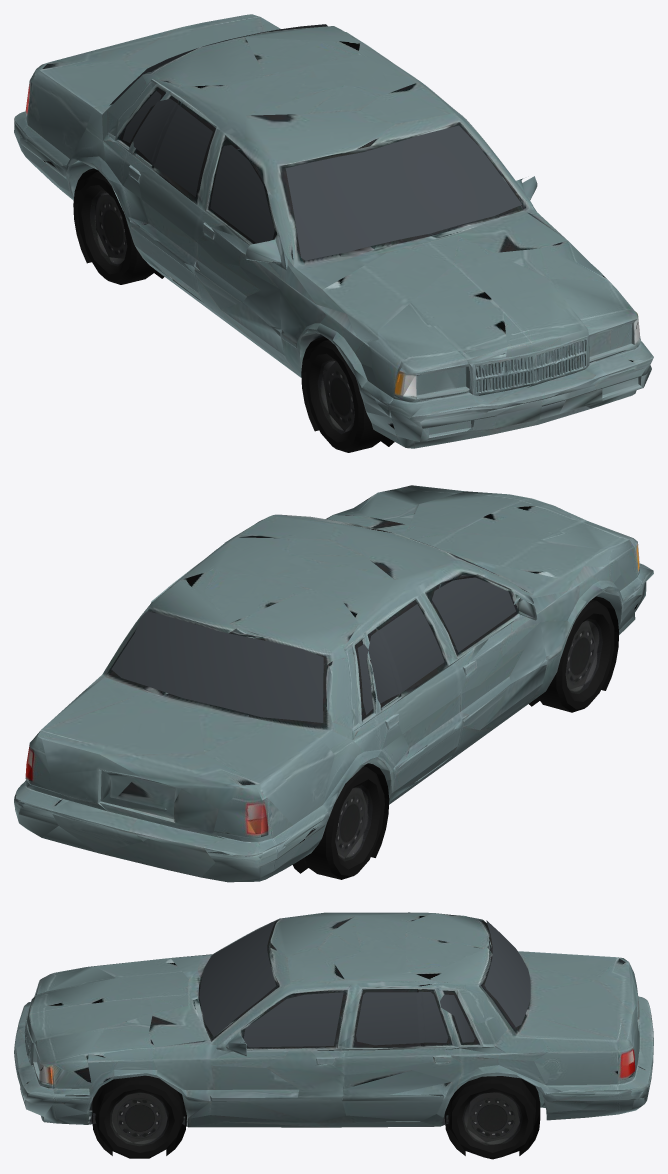
File: sedan.glb
The picture shows the model from 3 angles, top to bottom: view 1: azimuth 30°, elevation 25°; view 2: azimuth 150°, elevation 25°; view 3: azimuth 270°, elevation 25°; orthographic projection. The views are drawn at different scales.
Visible parts, largest first — view 1: body, glass, wheel_fr, wheel_rr; view 2: body, glass, wheel_rr, wheel_fr; view 3: body, glass, wheel_fl, wheel_rl.
Boxes of the visible parts, <box> form: body: <box>14,14,653,448</box>; glass: <box>109,24,521,260</box>; wheel_fr: <box>306,340,383,452</box>; wheel_rr: <box>77,171,156,284</box>; body: <box>14,485,653,882</box>; glass: <box>111,520,515,722</box>; wheel_rr: <box>303,766,384,879</box>; wheel_fr: <box>538,600,614,712</box>; body: <box>14,912,653,1155</box>; glass: <box>199,920,530,1047</box>; wheel_fl: <box>95,1075,183,1158</box>; wheel_rl: <box>448,1076,535,1159</box>.
Size of the model in its own units: 2.03 by 1.47 by 5.
Materials: 3 (2 with a texture image).
